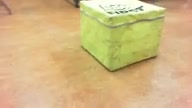cube: (79, 1, 167, 72)
